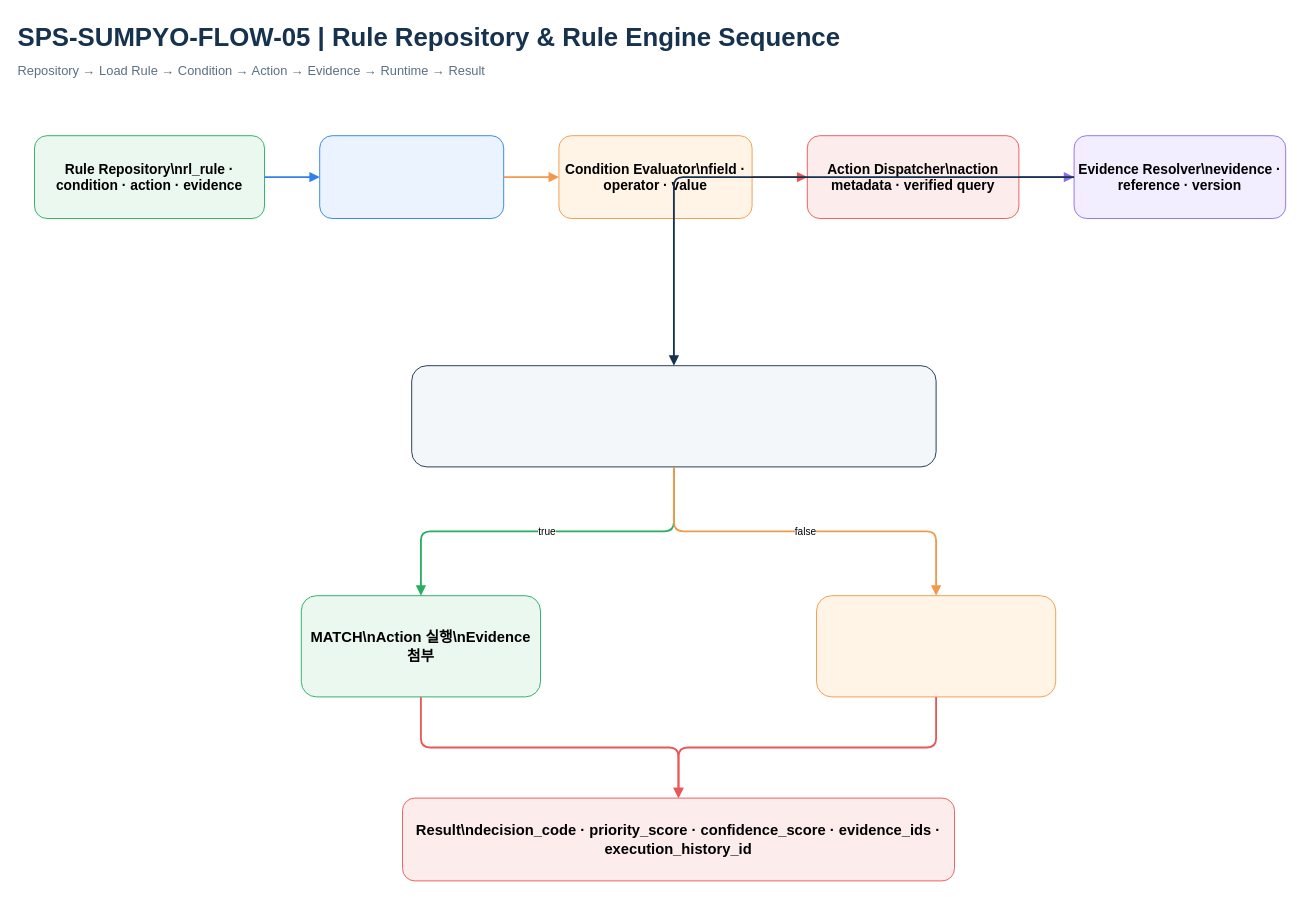
Image size: 1302x897. Some labels were removed from this diagram. Here are the shapes that lost their labels. From the top down, the centre of each, then its label:
At point (411, 176): "Rule Loader\nstatus · version · priority".
At point (673, 416): "Runtime Context\ninput snapshot · object identity · execution history".
At point (936, 646): "NO MATCH\n다음 Rule 평가\n미충족 근거 기록".
